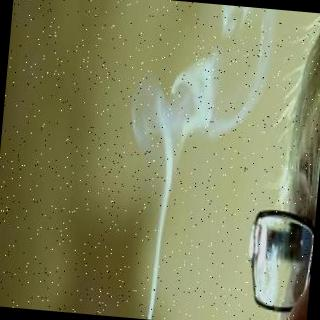smoke: (124, 18, 272, 195)
